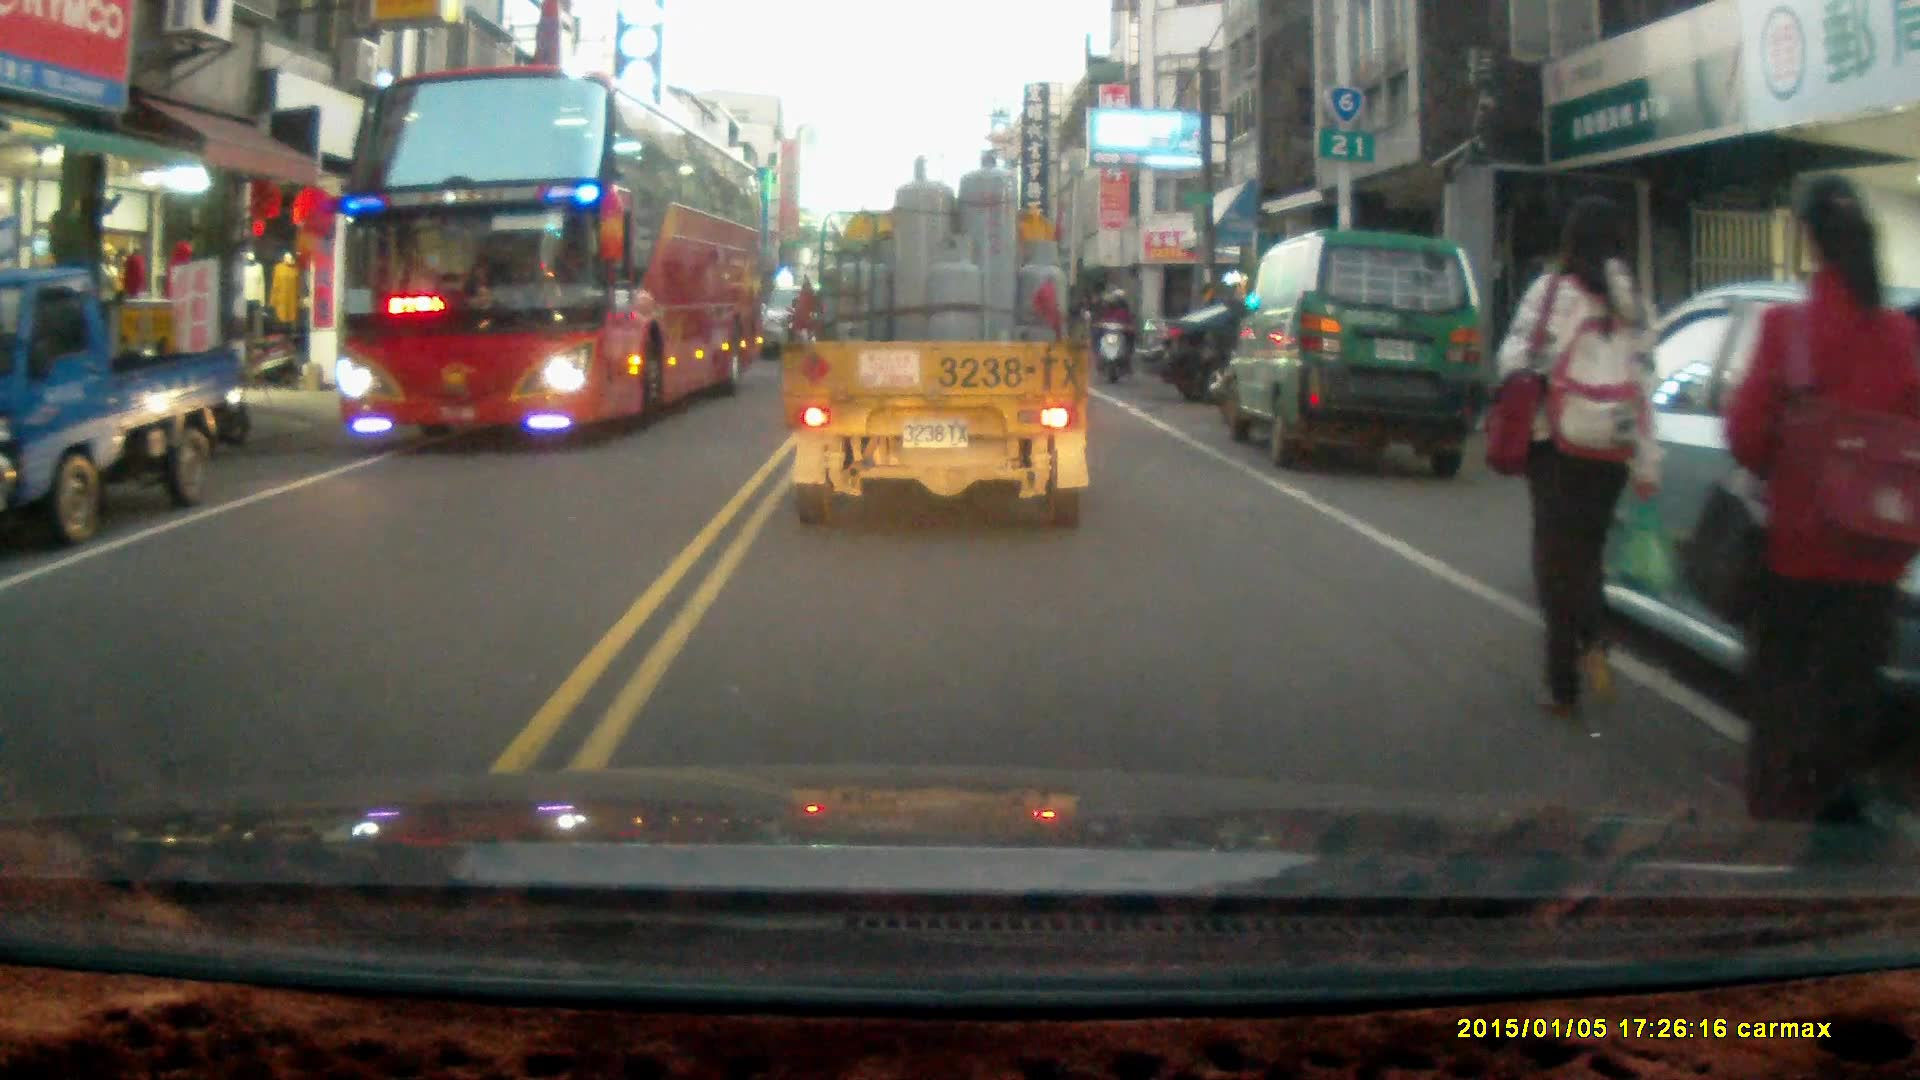pedestrian: (1719, 170, 1920, 866), (1493, 196, 1673, 742)
rider: (1090, 285, 1135, 382)
vehicle: (329, 69, 775, 449), (785, 150, 1096, 536), (1, 266, 249, 552), (1227, 229, 1484, 472), (1133, 303, 1432, 406)
